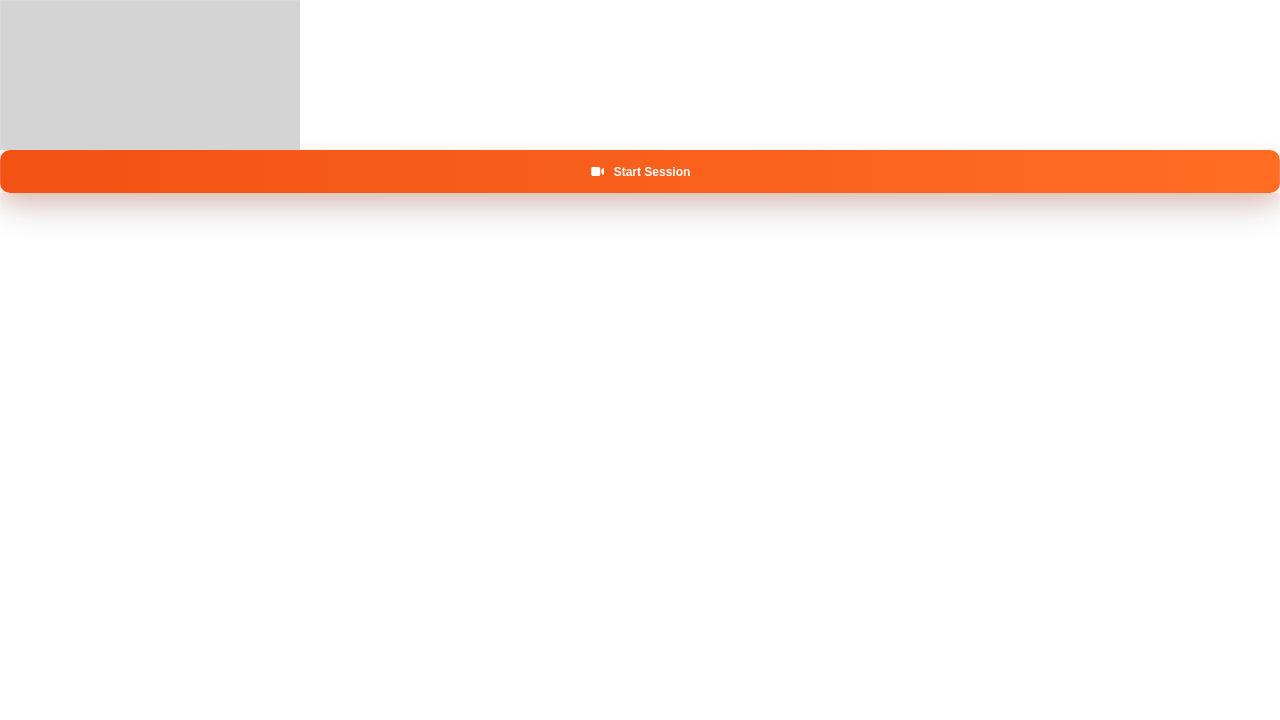
Test: stops before camera access and gives instructions while offline
This screenshot has width=1280, height=720.
Step 1. Click the button "Start Session" → (640,172), box [0, 150, 1279, 193]
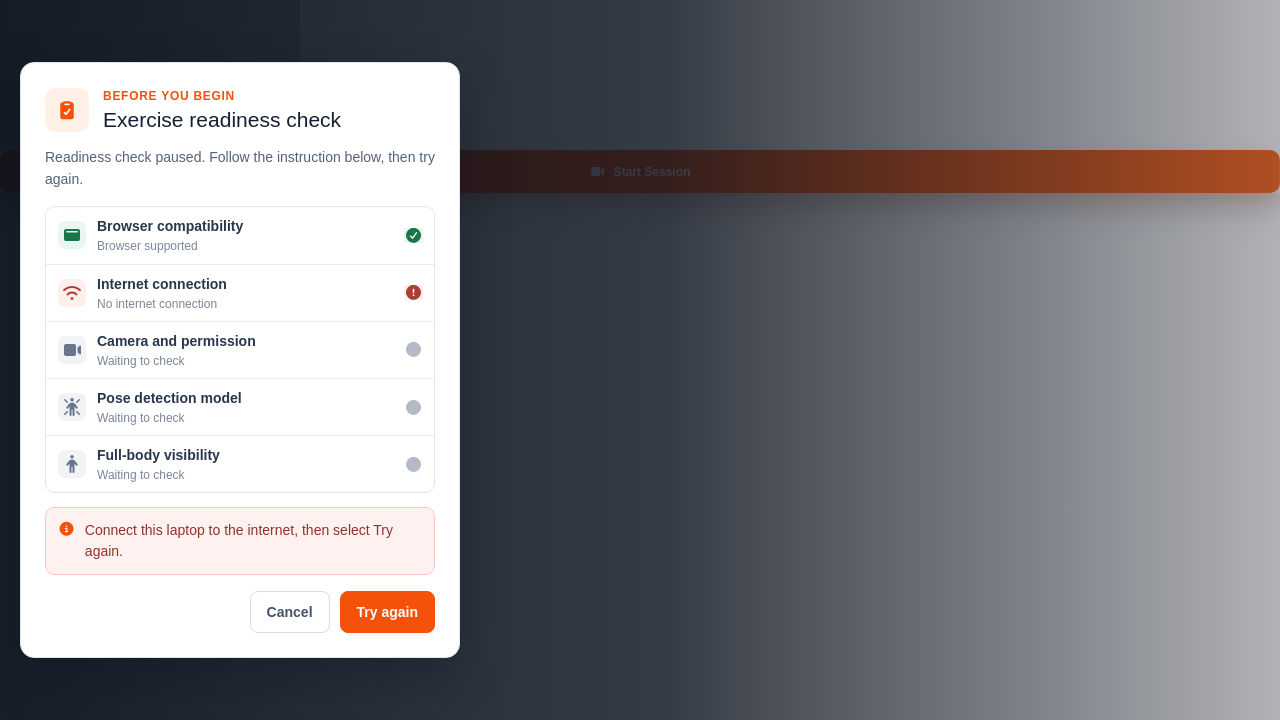
Check: the dialog "Exercise readiness check" is shown
Check: the text "No internet connection" is shown, box [97, 296, 217, 310]
Check: the message shows "Connect this laptop to the internet", box [85, 522, 393, 559]
